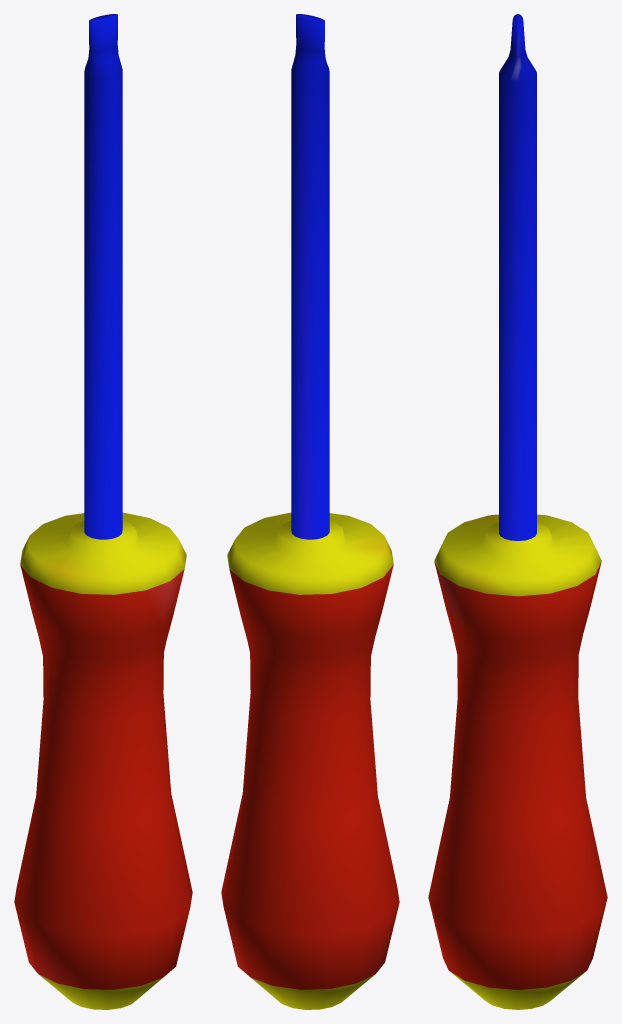
File: Screwdriver.fbx
3 renders of one model, left to right at view 1: azimuth 30°, elevation 25°; view 2: azimuth 150°, elevation 25°; view 3: azimuth 270°, elevation 25°, orthographic.
Parts seen in each view (by area): view 1: screwdriver; view 2: screwdriver; view 3: screwdriver.
Part boxes in pixels (x1,y1,x2,y2): screwdriver: (14, 14, 192, 1009); screwdriver: (221, 14, 399, 1009); screwdriver: (428, 14, 607, 1009).
Size of the model in its own units: 2.92 by 17.6 by 2.92.
